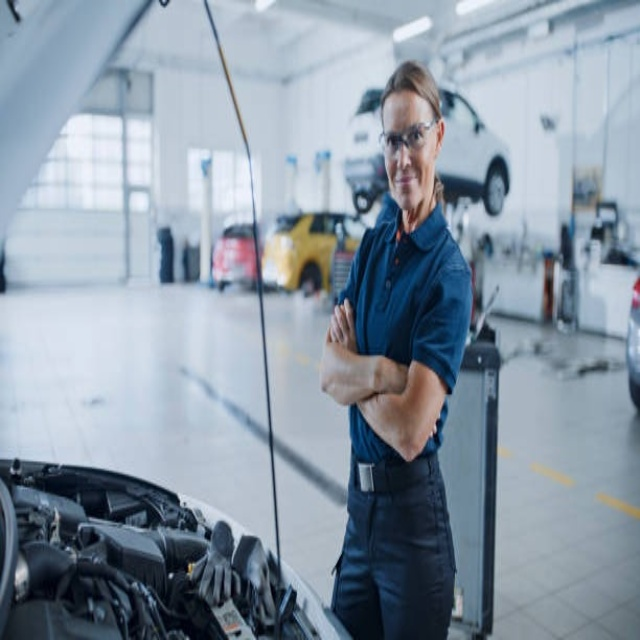Gafas: (379, 119, 438, 156)
Sin_guantes: (328, 294, 356, 350)
Sin_mascara: (391, 162, 421, 207)
